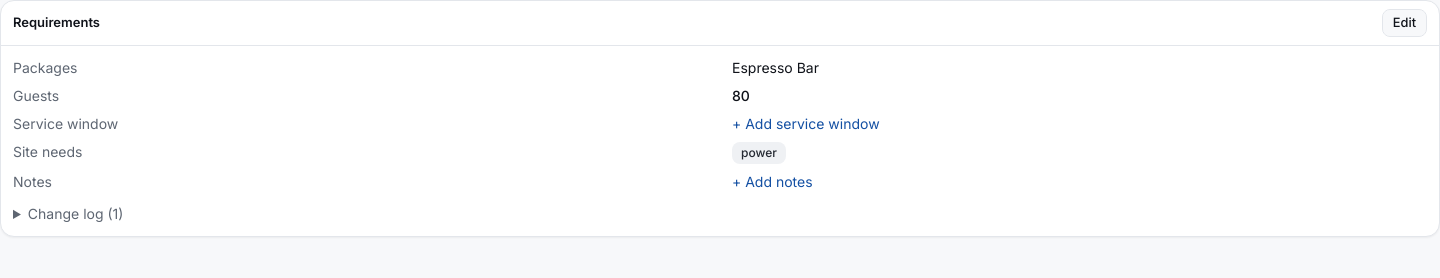
Test: RequirementsCard › renders the change log
Click the heading "Change log (1)": (76,214) [28,205,123,222]
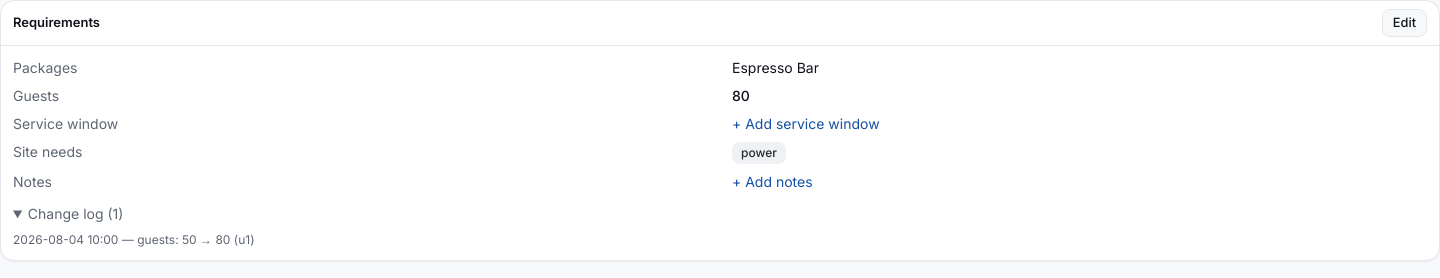
Result: the list item "2026-08-04 10:00 — guests: 50 → 80 (u1)" is shown at [13,232,255,247]
